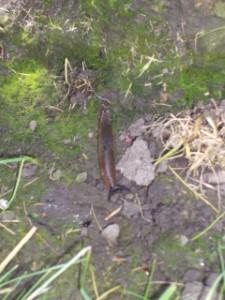slug: (72, 64, 159, 226)
